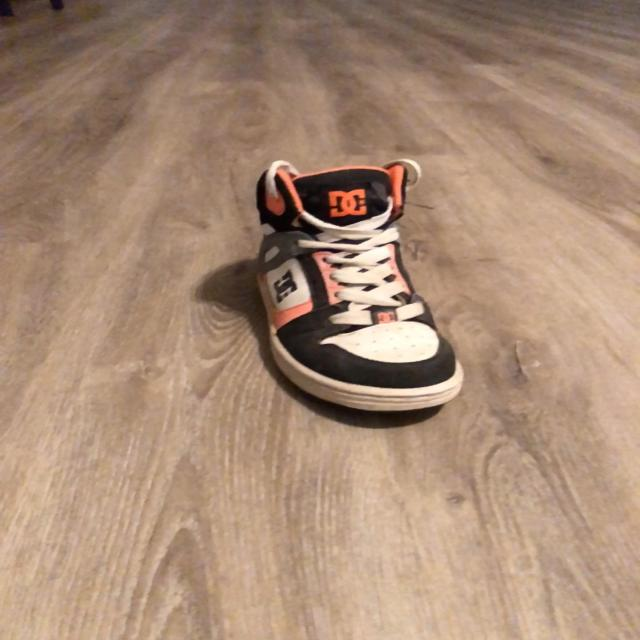shoe: (253, 161, 465, 430)
